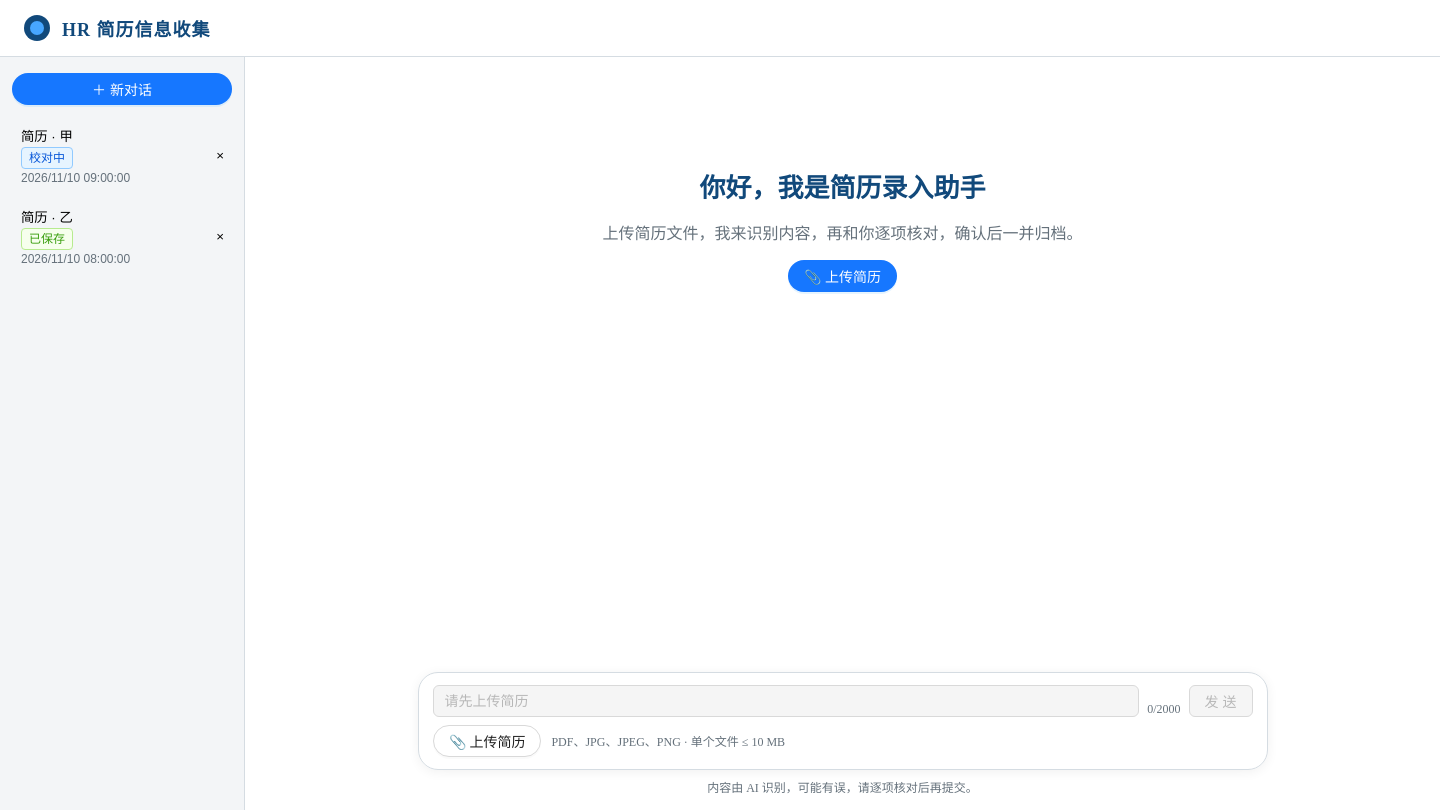
Test: switching and leaving (REQ-FE-05.3, 05.4) › opens a reviewing and then a saved session without side effects on each other
Click the button "简历 · 甲 校对中 2026/11/10 09:00:00": (108, 156) [12, 117, 204, 194]
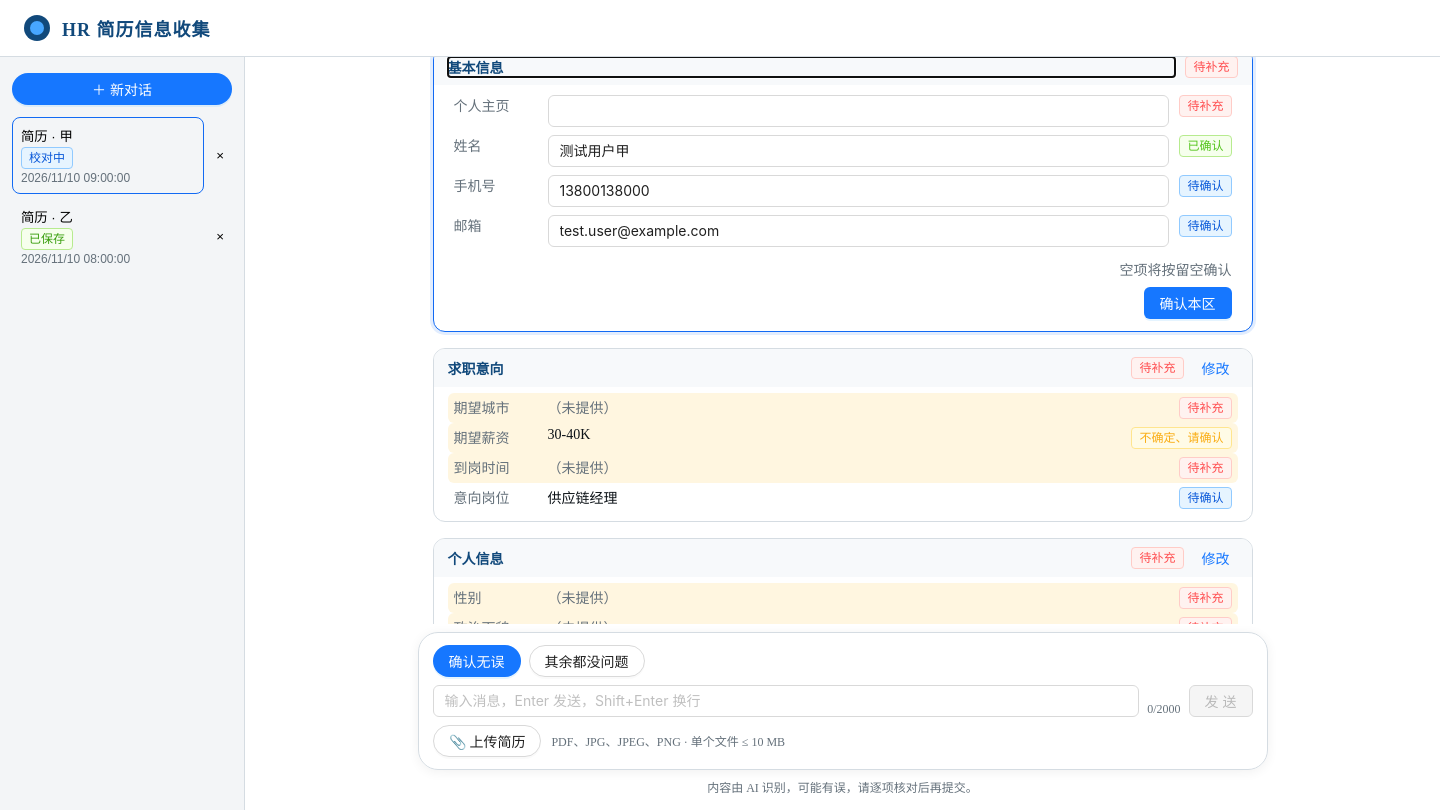
Expected: the heading "基本信息" is shown, [448, 61, 504, 76]
Click the button "简历 · 乙 已保存 2026/11/10 08:00:00": (108, 236) [12, 198, 204, 275]
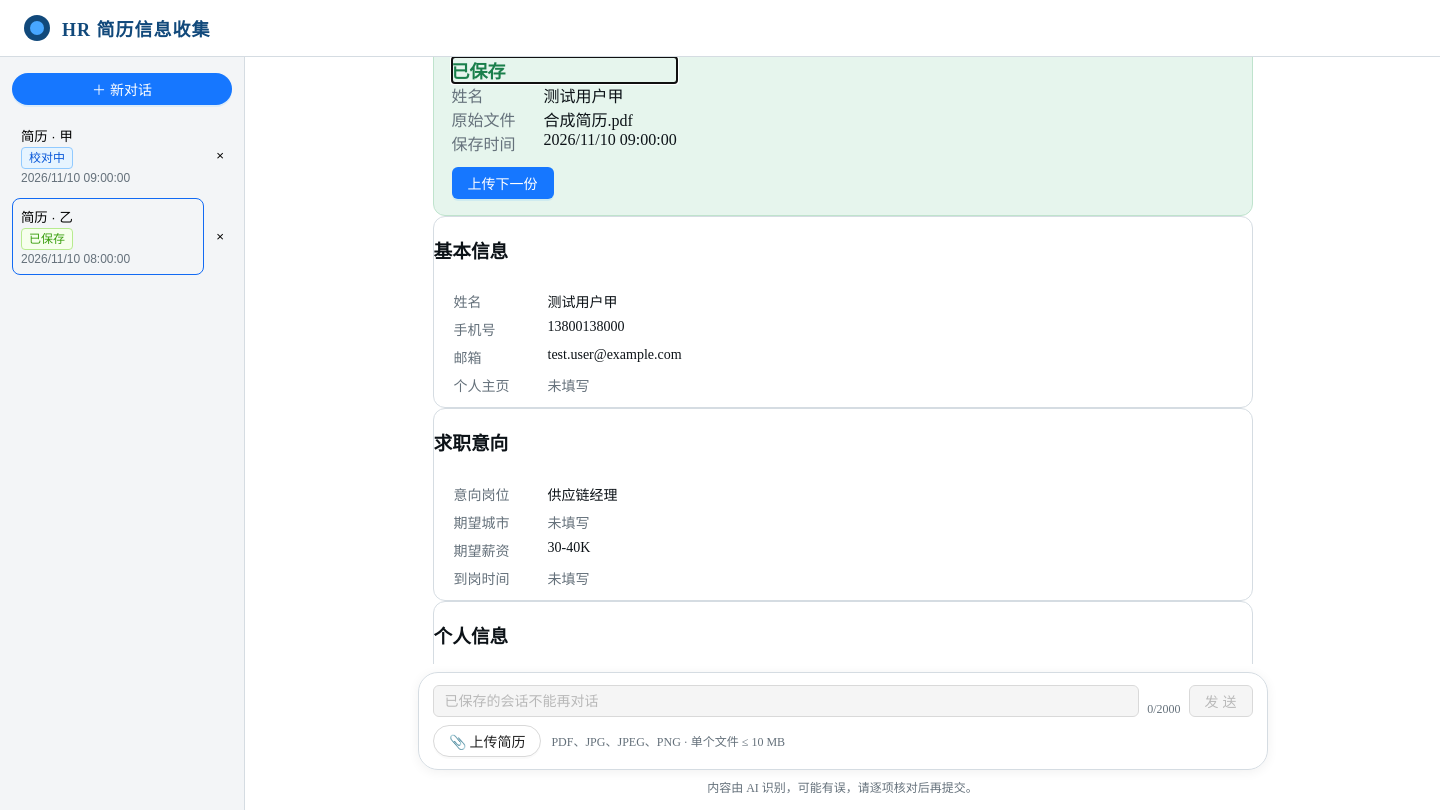
Expected: the element with test id "saved-result" is shown, [452, 57, 677, 155]
